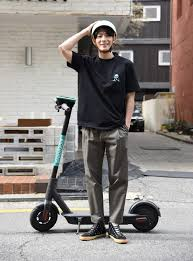kick_handler: (50, 95, 77, 113)
kick_neck: (46, 115, 71, 201)
kick_wheel: (30, 203, 59, 232), (133, 201, 158, 231)
